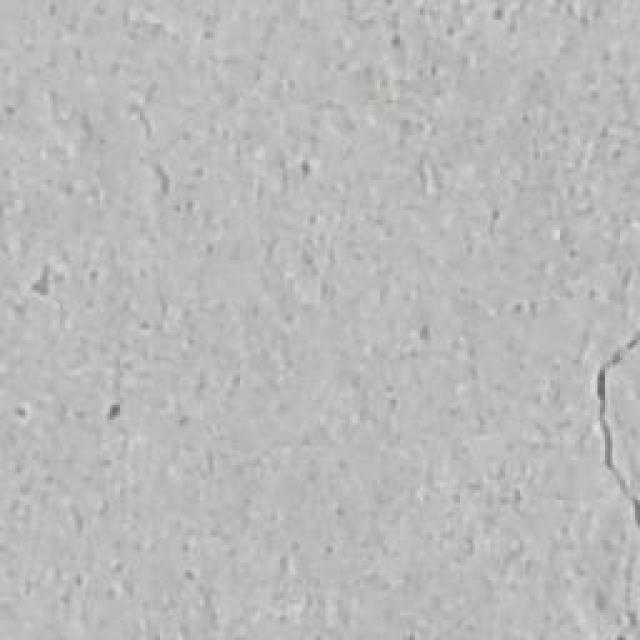concrete-crack: (588, 322, 640, 524)
